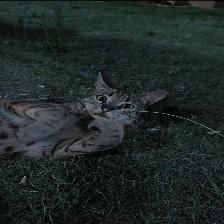kedo: (1, 71, 170, 160)
